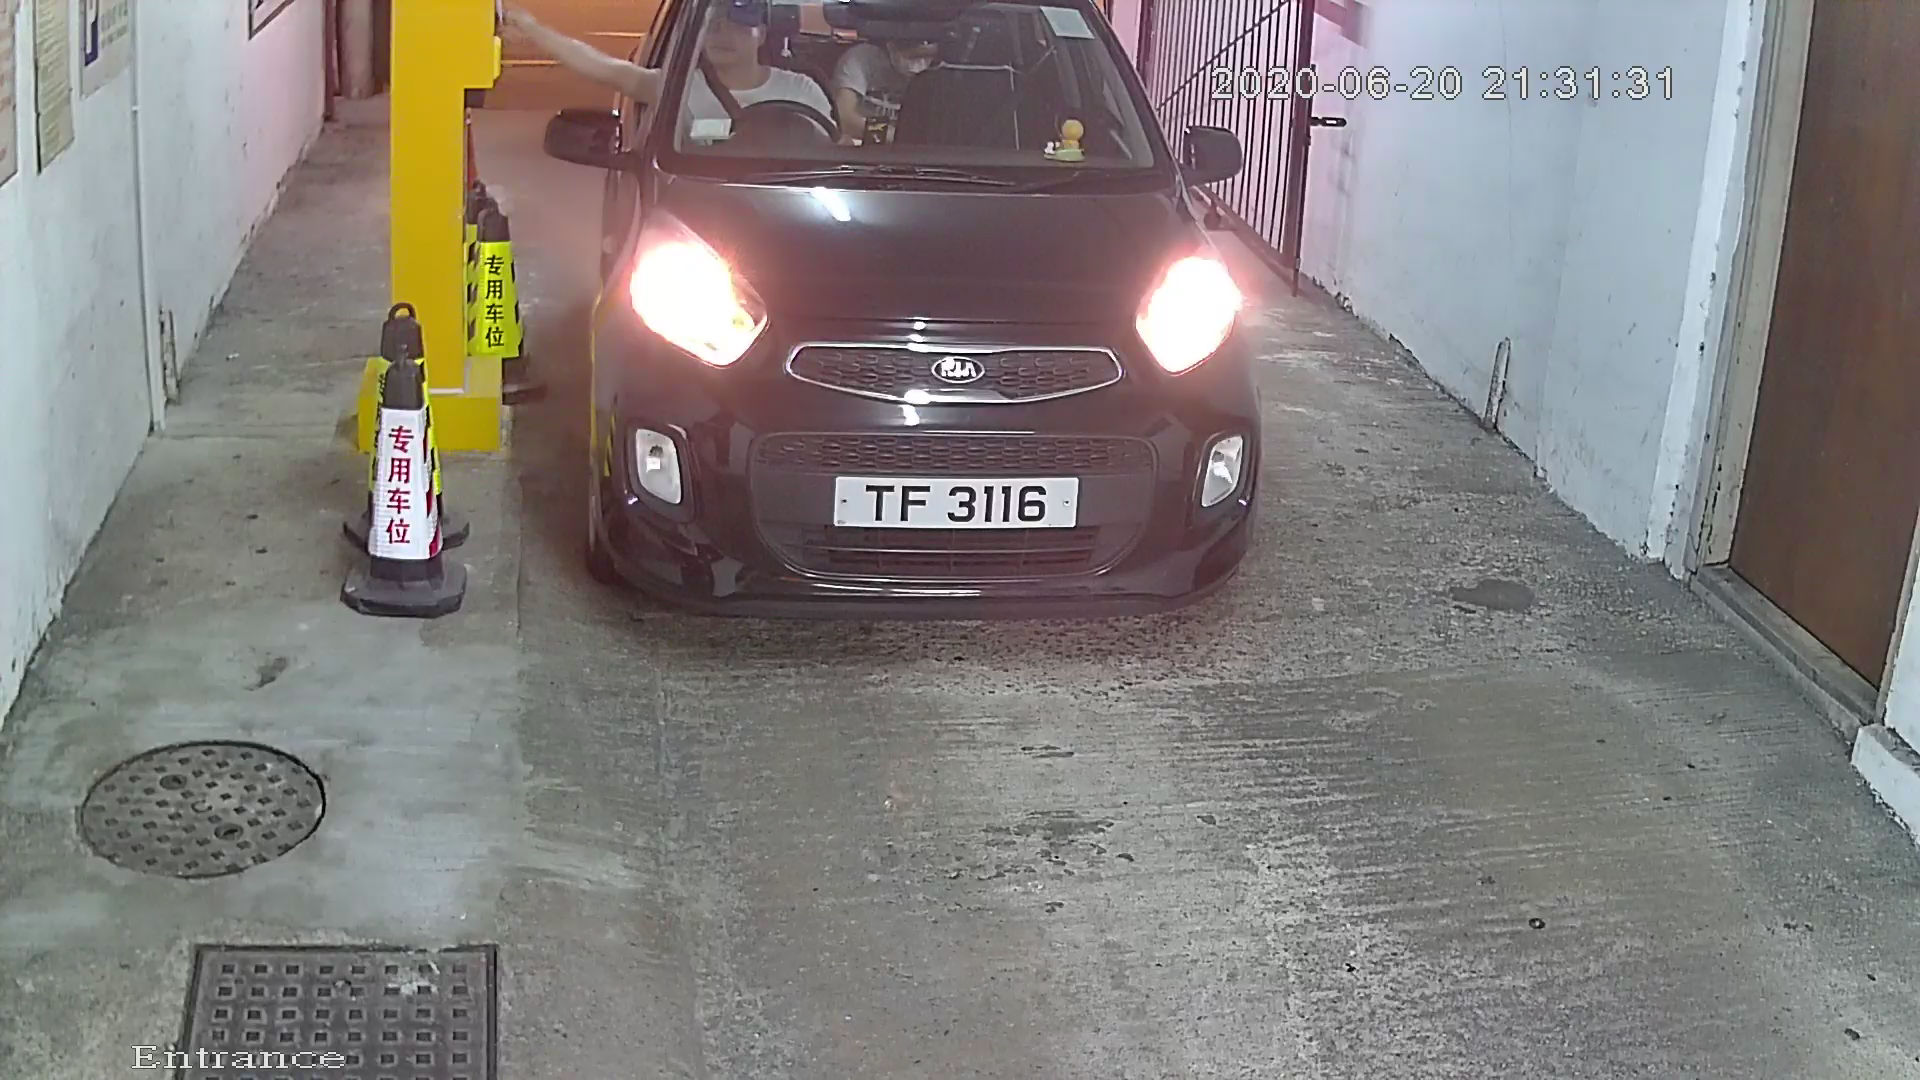privatecar: (556, 44, 1311, 695)
